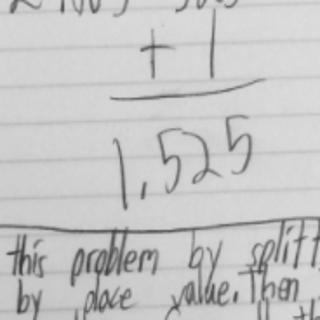.: (135, 177, 151, 201)
1: (114, 135, 128, 210), (205, 8, 219, 78)
2: (182, 126, 223, 186)
5: (220, 111, 261, 175), (155, 124, 185, 193)
